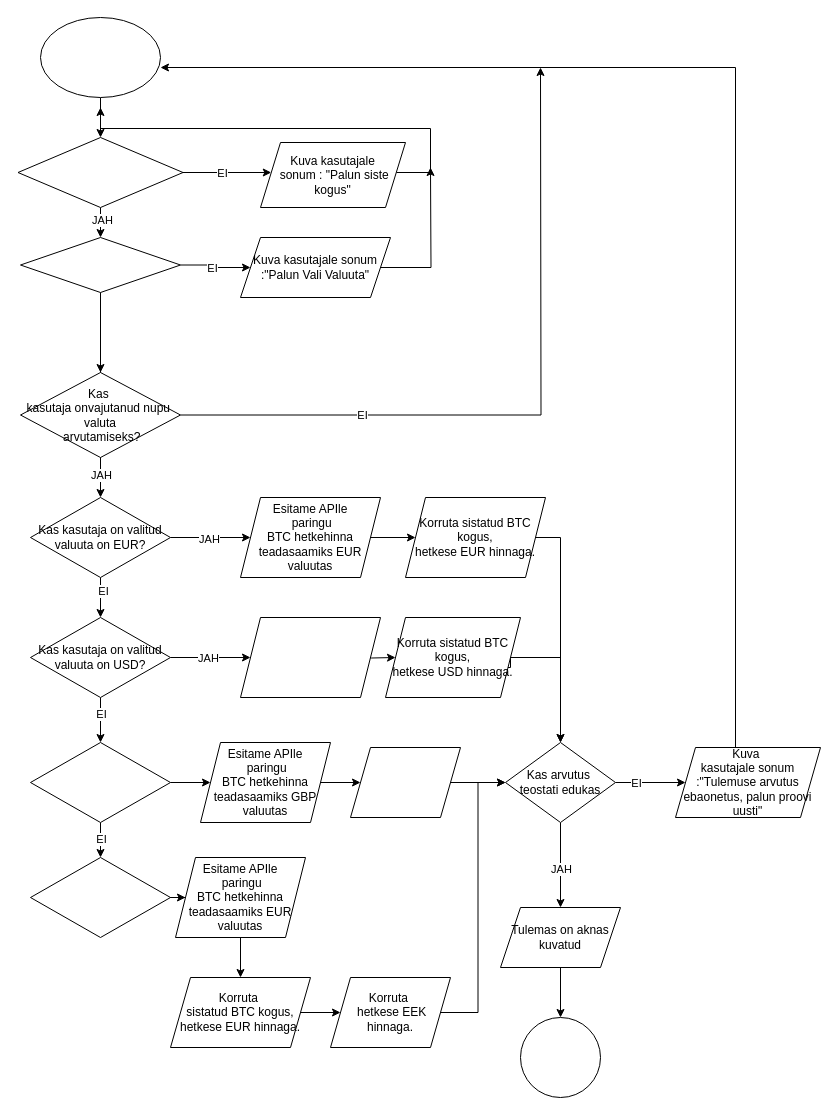
Some shapes in this 838 by 1115 pixel diagram are drawn without their labels. The shapes that lost their labels are listed below. From the top down, each one's centre as x and y in pixels, then its label:
(100,57): START
(100,172): Kas kasutaja on sistanud oma bitcoini koguse?
(100,264): Kas kasutaja on valinud siht valuta?
(310,657): Esitame APIle paringu BTC hetkehinna teadasaamiks USD valuutas
(100,782): Kas kasutaja on valitud valuuta on GBP?
(405,782): Korruta sistatud BTC kogus, hetkese GBP hinnaga.
(100,897): Kas kasutaja on valitud valuuta on EEK?
(560,1057): Lopp
